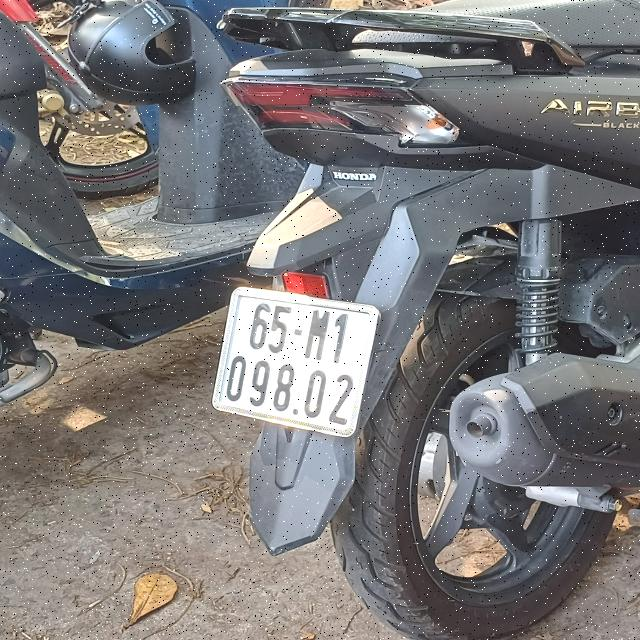0: (303, 371, 327, 417)
1: (226, 357, 247, 400), (334, 314, 348, 365)
2: (327, 372, 352, 426)
5: (269, 304, 292, 352)
6: (249, 302, 269, 350)
8: (272, 360, 298, 410)
9: (247, 360, 271, 407)
M: (304, 308, 332, 362)
